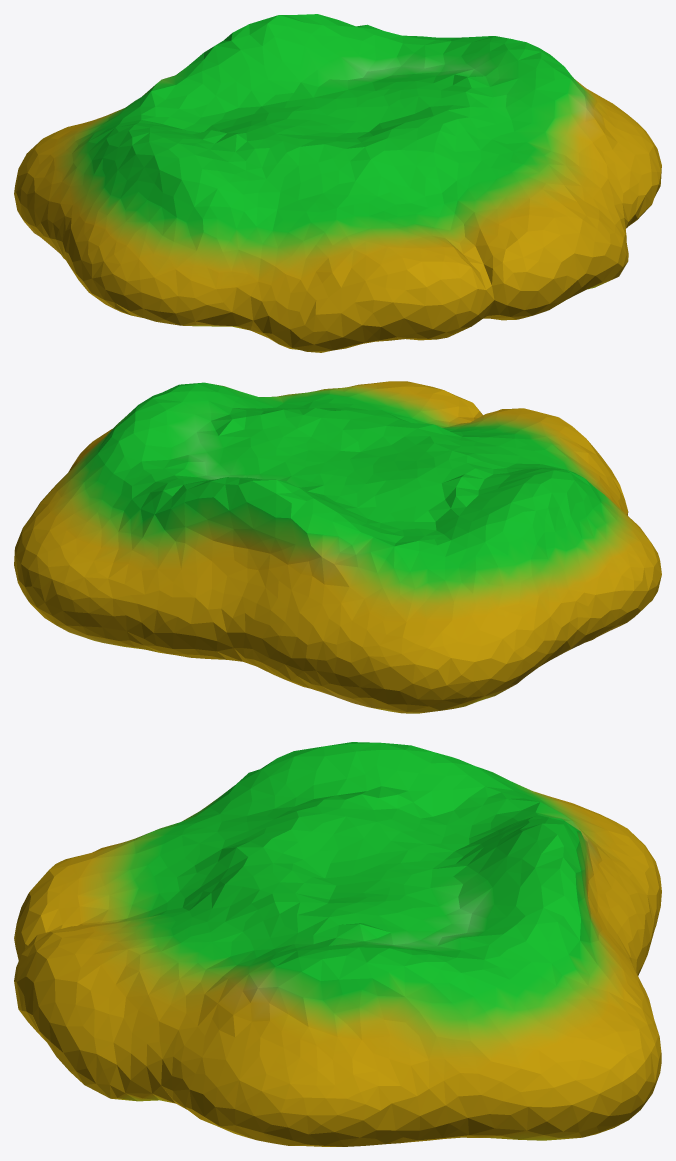
Rendered from isldand.fbx.
The picture shows the model from 3 angles, top to bottom: view 1: azimuth 30°, elevation 25°; view 2: azimuth 150°, elevation 25°; view 3: azimuth 270°, elevation 25°; orthographic projection. The views are drawn at different scales.
Visible parts, largest first — view 1: Icosphere; view 2: Icosphere; view 3: Icosphere.
Part boxes in pixels (x1,y1,x2,y2): Icosphere: (14, 14, 661, 352); Icosphere: (14, 381, 661, 713); Icosphere: (14, 742, 661, 1146).
Size of the model in its own units: 930 by 279 by 802.
